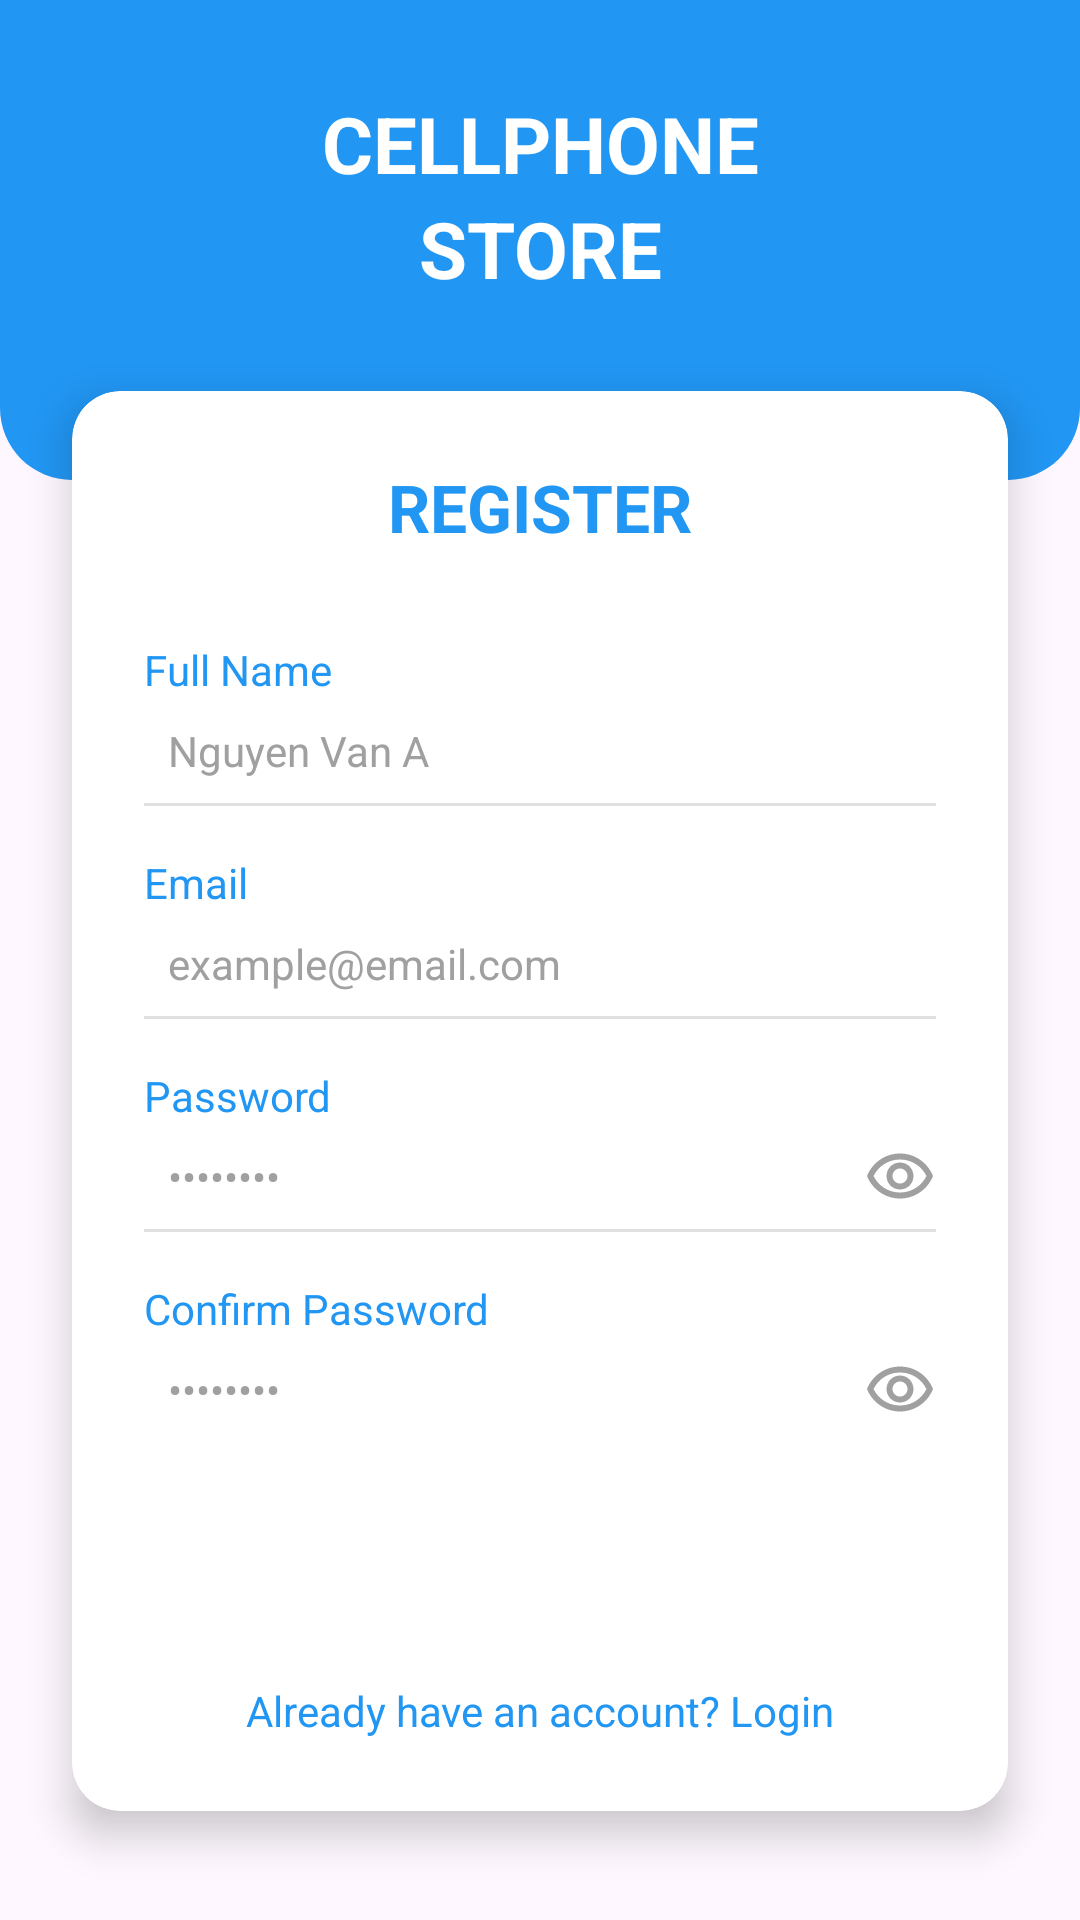

Named icons in this screenshot (1080*1920) and their centers, (x=x, y=y):
Toggle password visibility: (x=900, y=1176), (x=900, y=1389)
